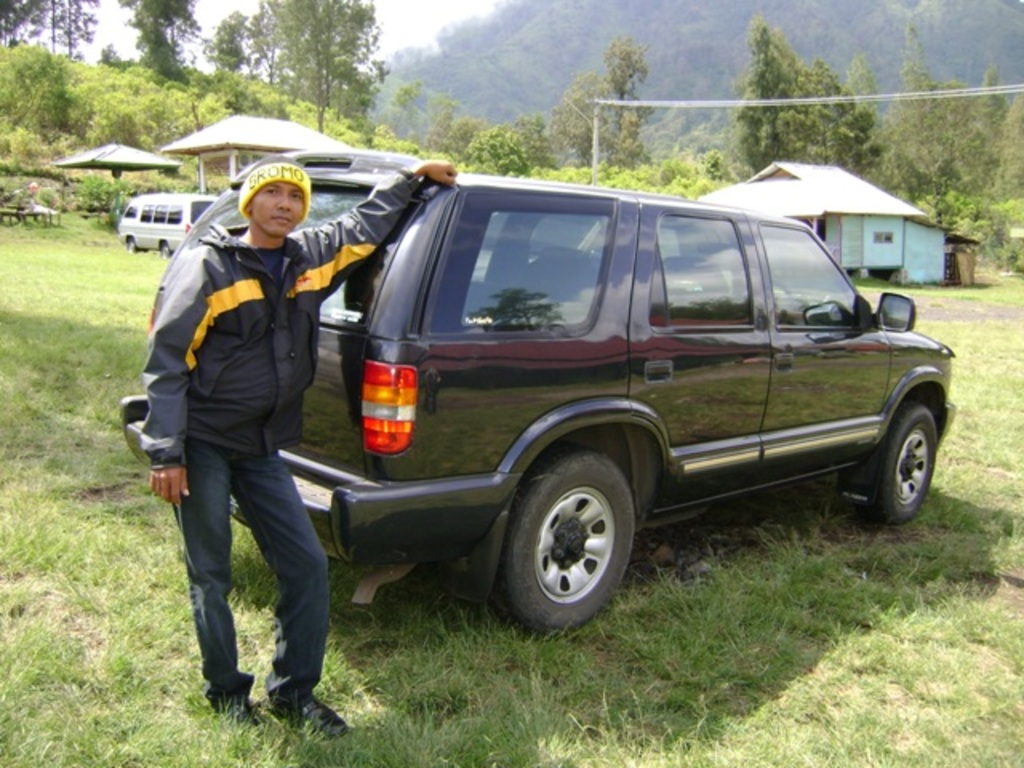Tree: (0, 0, 1024, 274)
